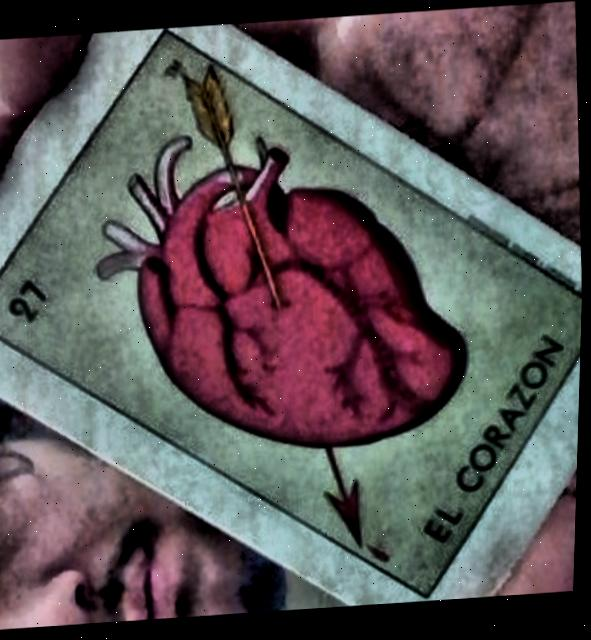El Corazon: (0, 31, 584, 599)
